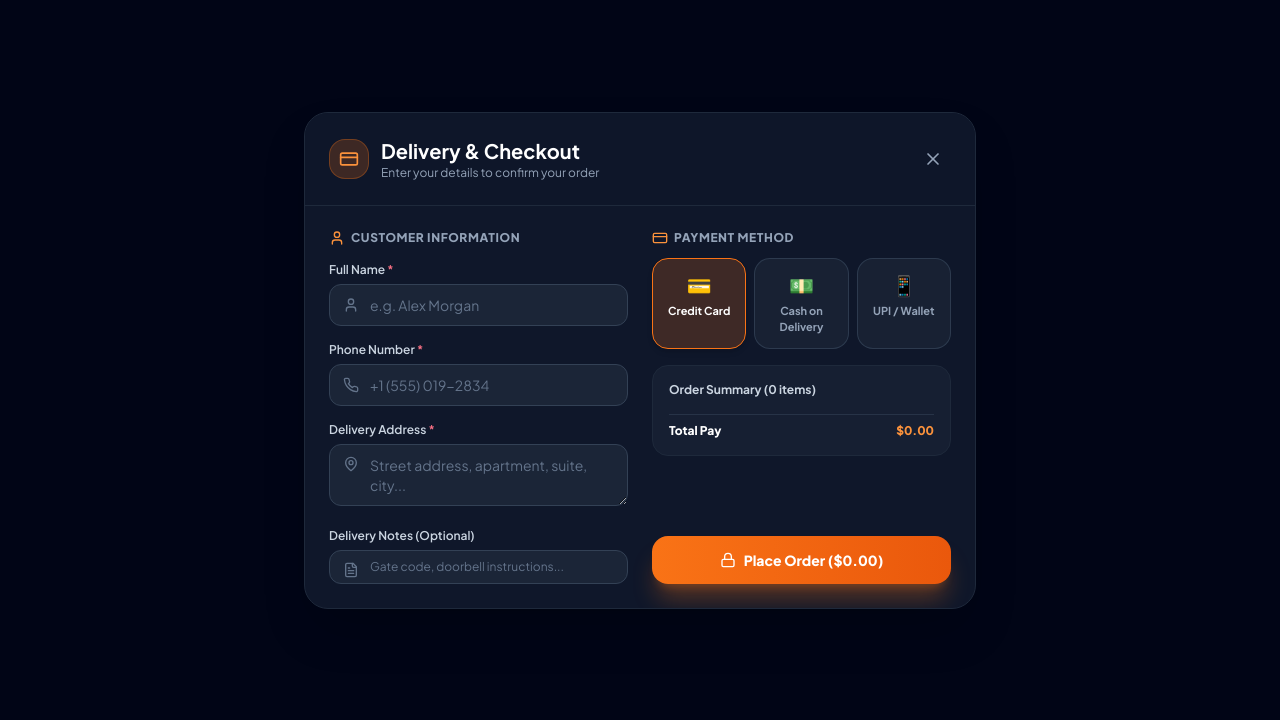
Test: CheckoutModal Component (TDD) › displays inline validation errors when submitting empty form fields
Click the button "Place Order ($0.00)" at (802, 560), box [652,536,951,584]
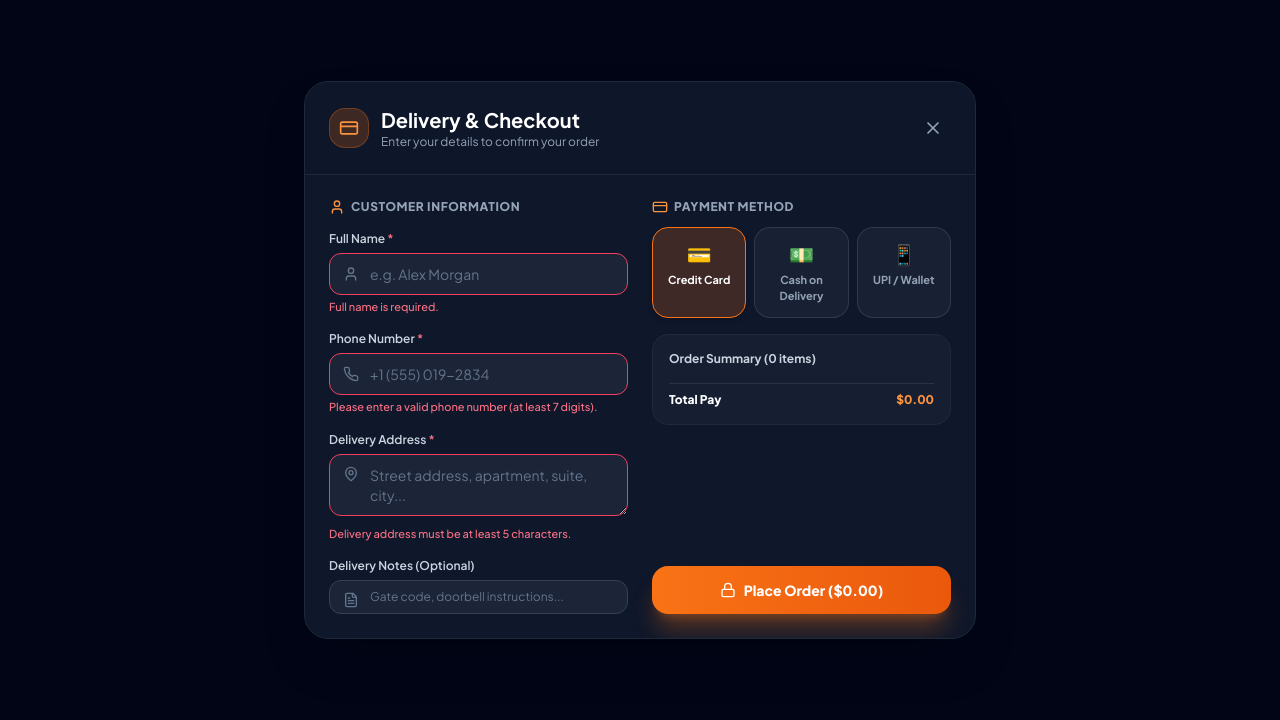
expect the text "Full name is required." is shown: met, box [329,300,439,313]
expect the text "Delivery address must be at least 5 characters." is shown: met, box [329,527,571,540]
expect the text "Please enter a valid phone number (at least 7 digits)." is shown: met, box [329,399,628,416]
